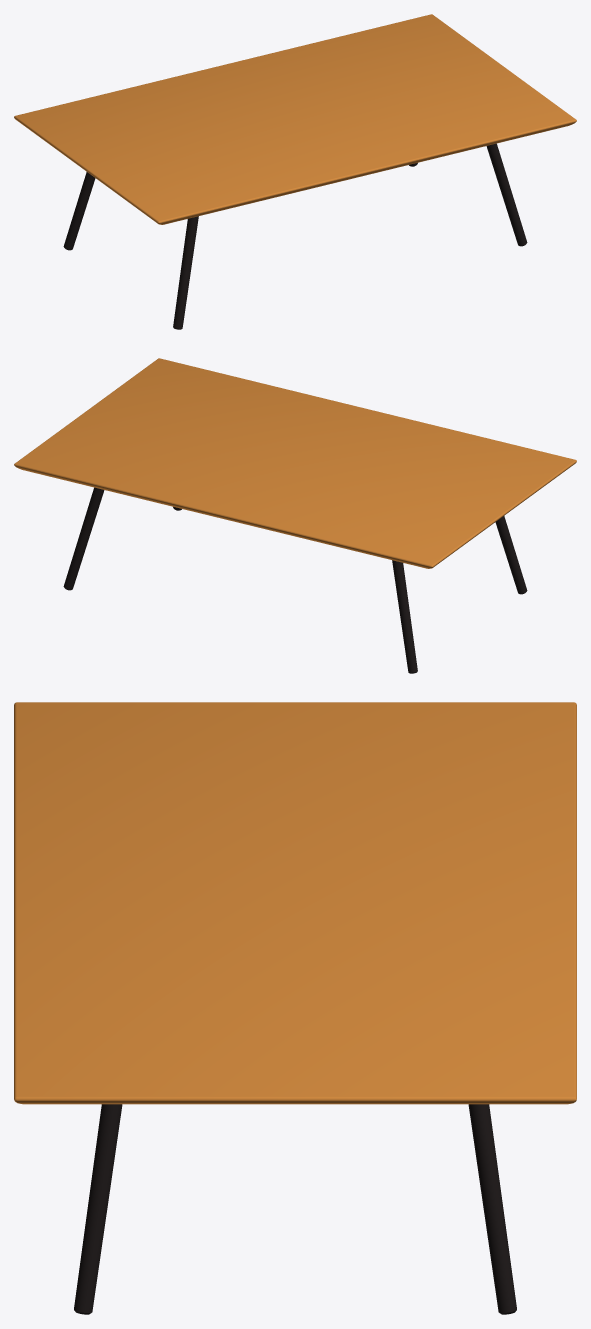
Rendered from work.glb.
The picture shows the model from 3 angles, top to bottom: view 1: azimuth 30°, elevation 25°; view 2: azimuth 150°, elevation 25°; view 3: azimuth 270°, elevation 25°; orthographic projection. The views are drawn at different scales.
Visible parts, largest first — view 1: face, foot; view 2: face, foot; view 3: face, foot.
Part boxes in pixels (x1=…): face: x1=14, y1=14, x2=576, y2=224; foot: x1=63, y1=143, x2=527, y2=329; face: x1=14, y1=358, x2=576, y2=568; foot: x1=63, y1=487, x2=527, y2=673; face: x1=14, y1=702, x2=576, y2=1104; foot: x1=74, y1=1104, x2=516, y2=1314.
Bounding box in the file's own units: 1 × 0.2959 × 0.6.
